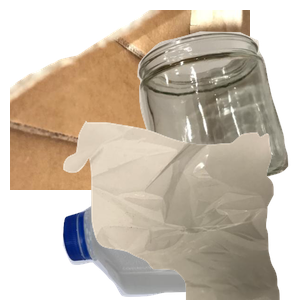cardboard: (10, 10, 250, 190)
glass: (135, 29, 300, 209)
plastic: (60, 135, 300, 300)
trash: (61, 120, 300, 300)
